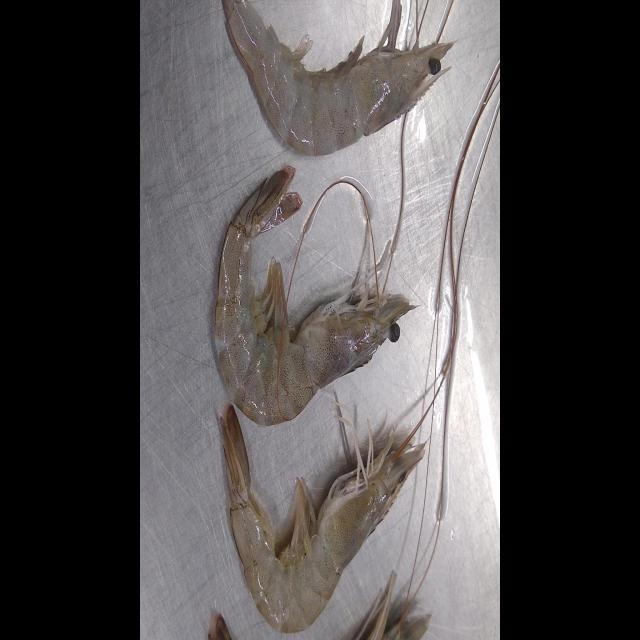shrimp: (215, 164, 412, 424), (220, 404, 424, 633), (222, 0, 452, 156)
